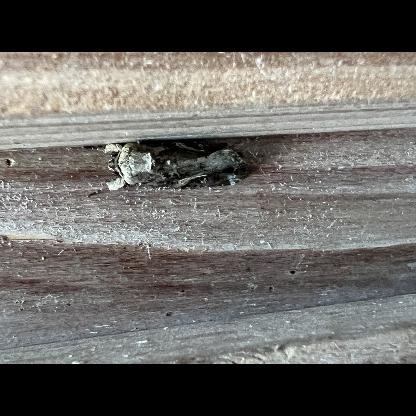Fall Armyworm Moth: (63, 138, 252, 200)
